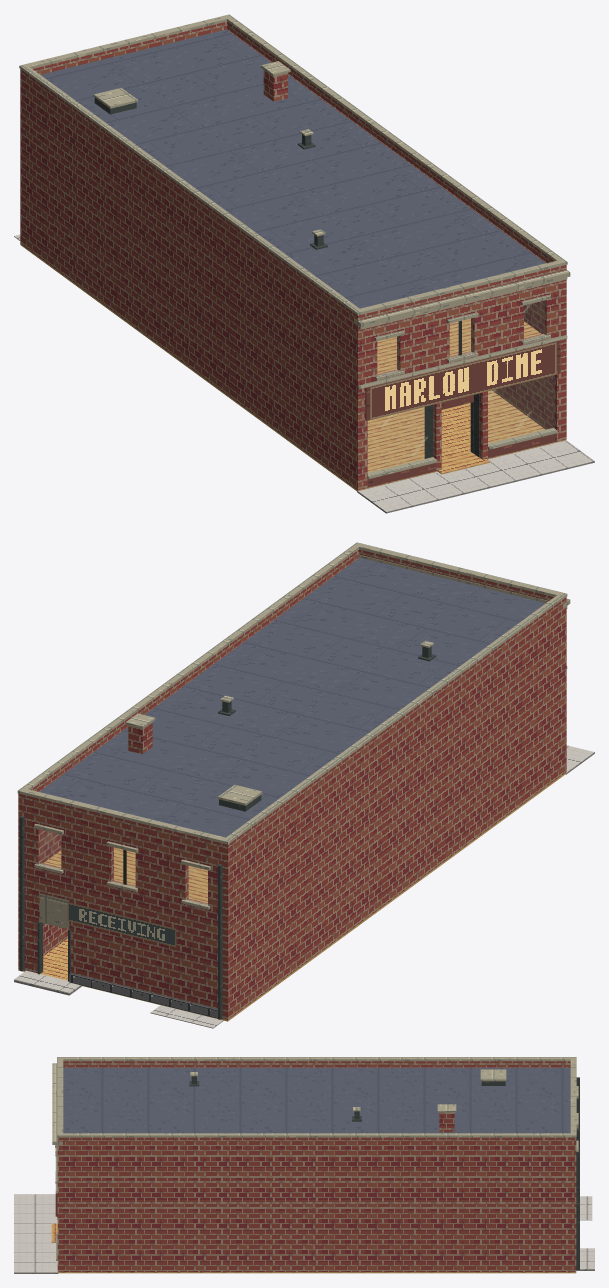
The model's file is marlow-1925-far.glb.
3 views of the same model, one above another, from view 1: azimuth 30°, elevation 25°; view 2: azimuth 150°, elevation 25°; view 3: azimuth 270°, elevation 25° (orthographic). The views are drawn at different scales.
Parts seen in each view (by area): view 1: building_shell, roof_and_parapet, Shared street sidewalk, sign_name; view 2: building_shell, roof_and_parapet, sign_receiving, Rear receiving pad, lot; view 3: building_shell, roof_and_parapet, Shared street sidewalk, Rear receiving pad, lot.
Part boxes in pixels (x1,y1,x2,y2): building_shell: (20, 29, 567, 491); roof_and_parapet: (19, 14, 570, 329); Shared street sidewalk: (357, 440, 594, 513); sign_name: (370, 342, 556, 419); building_shell: (18, 557, 567, 1021); roof_and_parapet: (17, 542, 570, 854); sign_receiving: (67, 902, 176, 947); Rear receiving pad: (14, 970, 81, 995); lot: (150, 1005, 223, 1028); building_shell: (51, 1067, 579, 1273); roof_and_parapet: (52, 1057, 576, 1147); Shared street sidewalk: (14, 1194, 58, 1273); Rear receiving pad: (576, 1248, 594, 1270); lot: (580, 1196, 592, 1220).
Size of what is drawn, in the model's own units: 10.05 by 9.06 by 31.36.
Materials: 10 (10 with a texture image).
